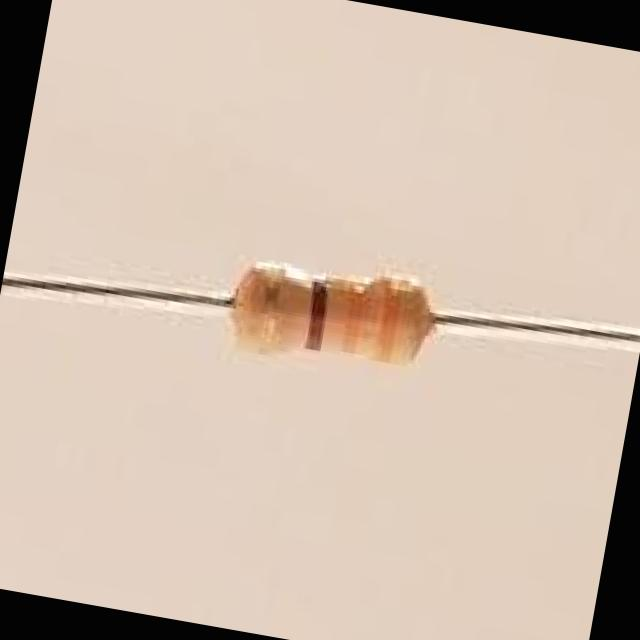Resistor: (225, 259, 439, 365)
brown: (300, 269, 330, 367)
gold: (253, 255, 284, 358)
orange: (365, 272, 403, 374), (335, 270, 368, 363)
